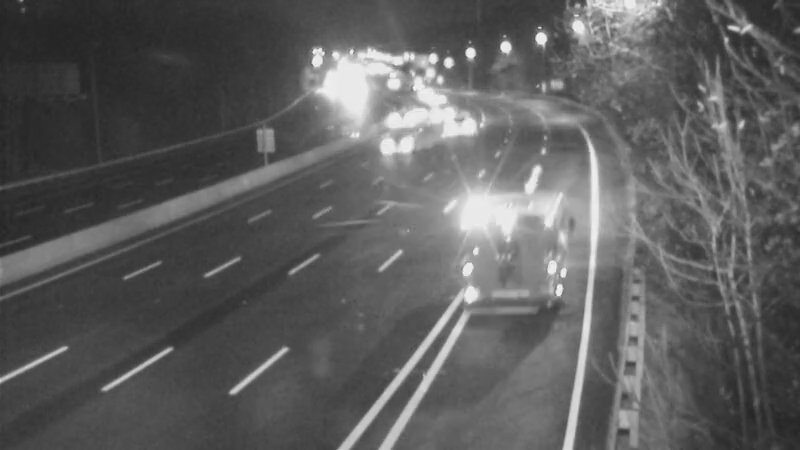vehicle: (475, 190, 555, 270), (415, 87, 465, 137), (371, 89, 421, 139), (433, 95, 483, 145), (378, 113, 428, 163)
